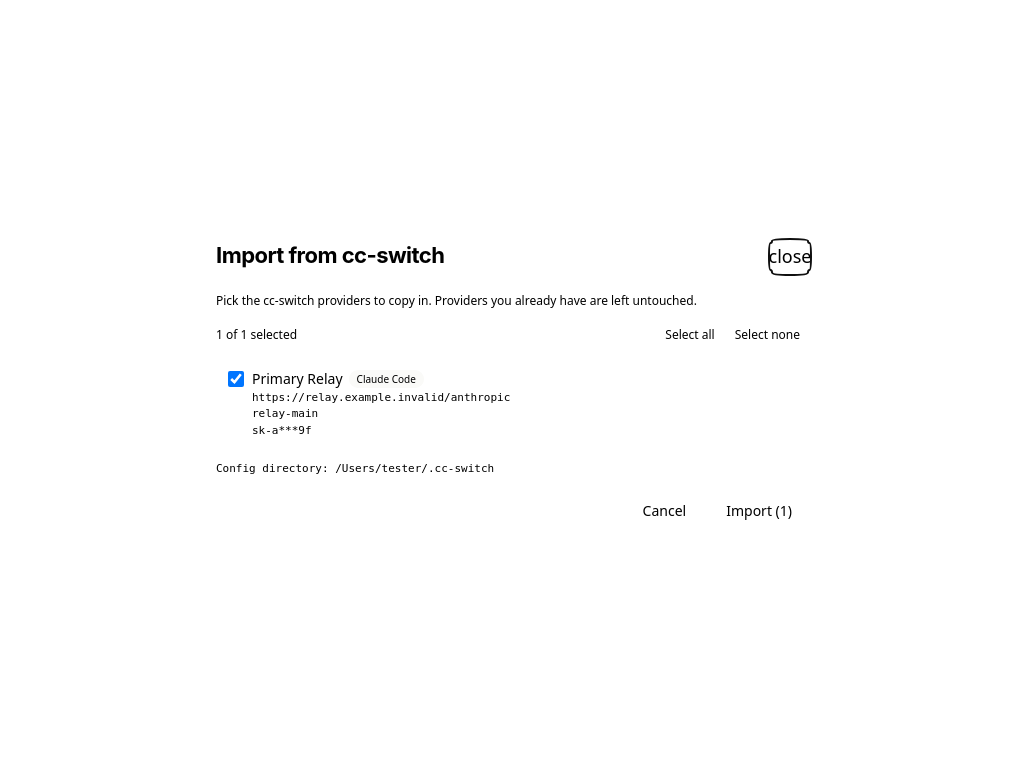
Test: CcSwitchImportModal › keeps the dialog open and shows why when the import fails
Click the button "Import (1)".
click(759, 511)  # box [710,493,808,529]
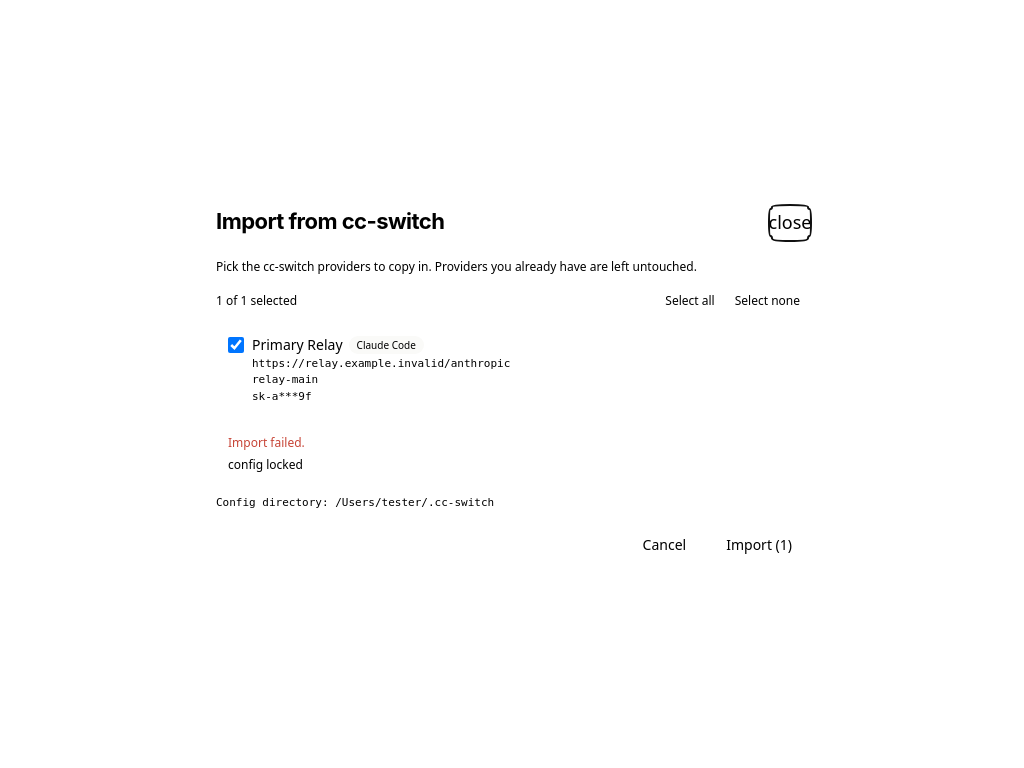
Expected: the button "Import (1)" is enabled, [710,527,808,563]
Now the message shows "Import failed", box [228,434,305,451]
Now the message shows "config locked", box [228,456,303,473]
